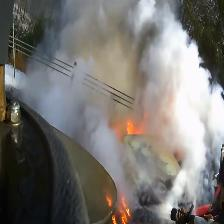fire: (105, 195, 131, 224), (127, 117, 146, 135)
